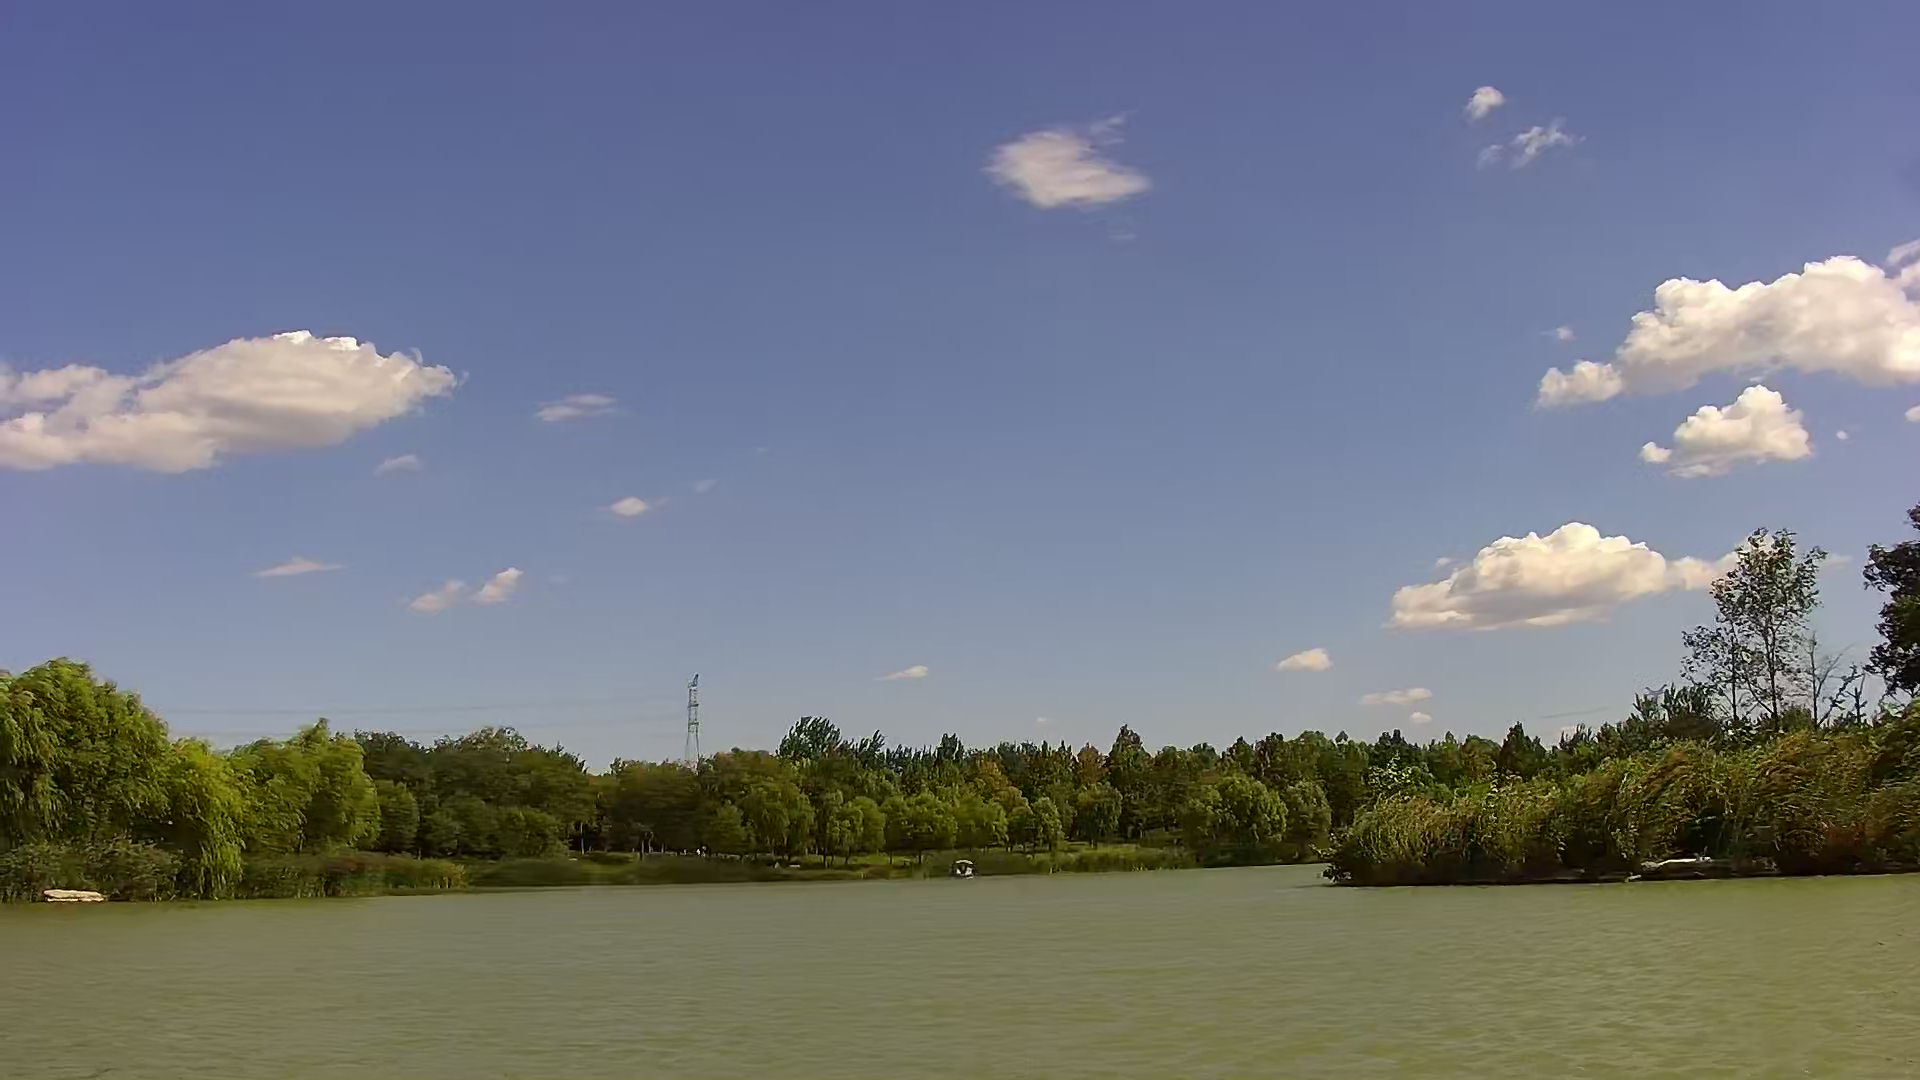boat: (948, 858, 978, 882)
